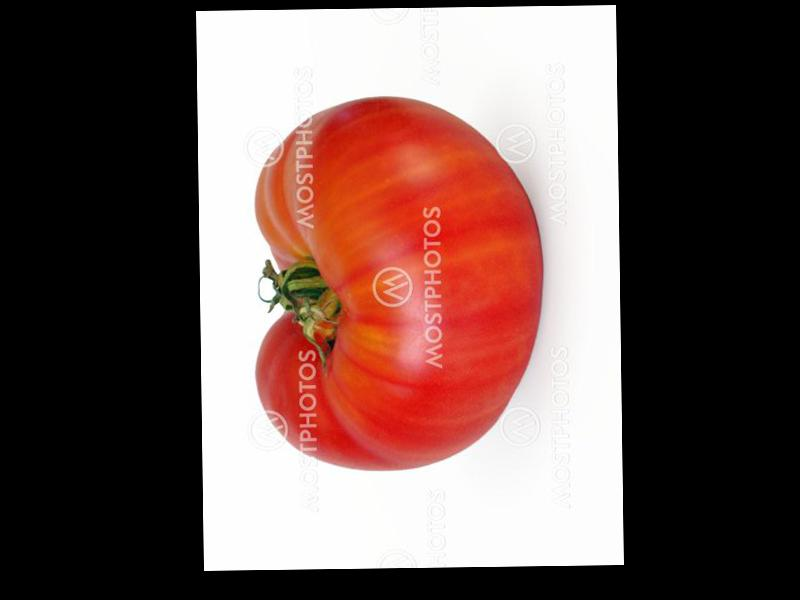Tomato: (251, 94, 544, 471)
